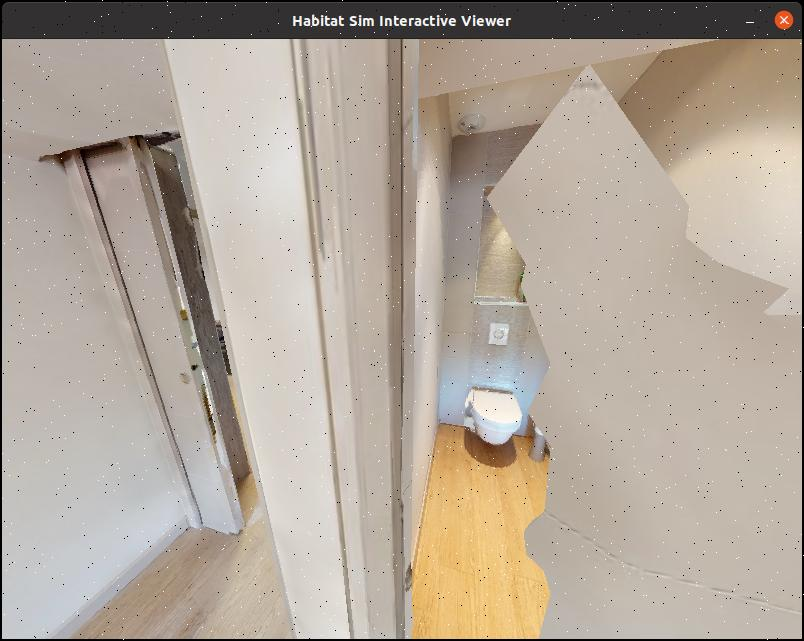toilet: (440, 375, 534, 465)
